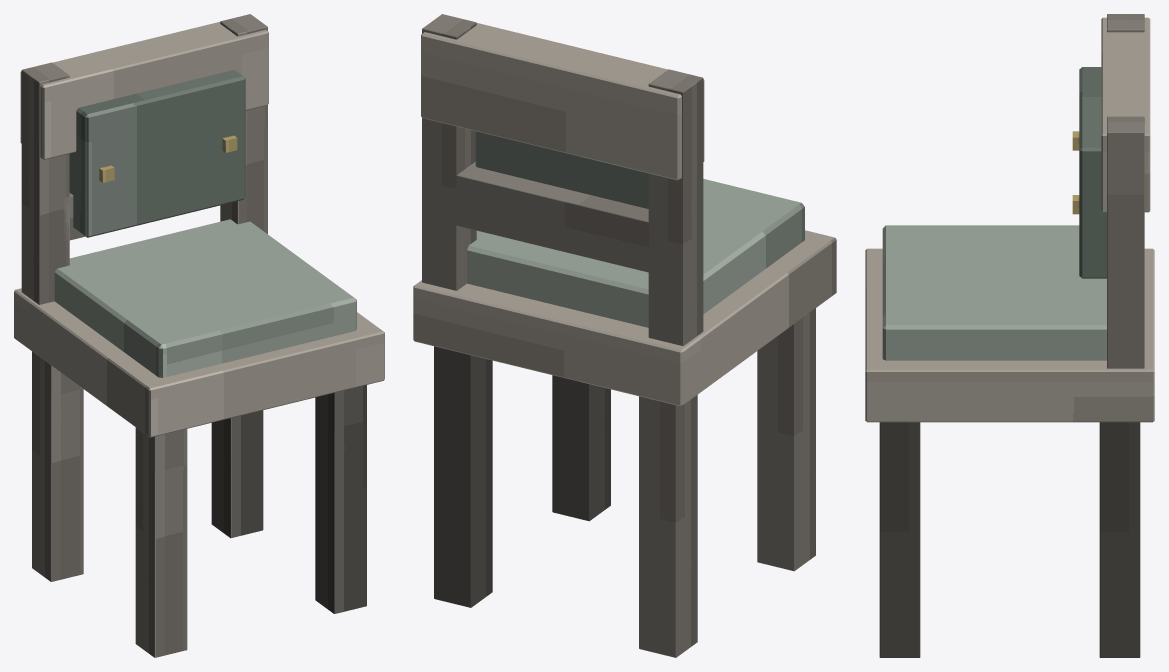
File: wooden_chair_cushion_ash.glb
The picture shows the model from 3 angles, left to right: view 1: azimuth 30°, elevation 25°; view 2: azimuth 150°, elevation 25°; view 3: azimuth 270°, elevation 25°; orthographic projection. The views are drawn at different scales.
Parts seen in each view (by area): view 1: SeatCushion, BackCushion, ChairSeat, BackTop, ChairLeg_1, ChairLeg_2, ChairLeg_3, BackPost_L, ChairLeg_4, BackPost_R; view 2: ChairSeat, BackTop, SeatCushion, ChairLeg_3, ChairLeg_4, ChairLeg_1, BackRail, BackPost_L, BackPost_R, ChairLeg_2, BackCushion; view 3: SeatCushion, ChairSeat, ChairLeg_2, ChairLeg_4, BackPost_R, BackTop, BackCushion, BackPost_L.
Part boxes in pixels (x1,y1,x2,y2): SeatCushion: (54,219,356,377); BackCushion: (69,69,245,237); ChairSeat: (14,288,384,437); BackTop: (20,22,268,159); ChairLeg_1: (135,427,187,657); ChairLeg_2: (315,385,366,613); ChairLeg_3: (32,351,83,581); BackPost_L: (21,62,69,304); ChairLeg_4: (211,410,263,538); BackPost_R: (220,14,267,233); ChairSeat: (413,230,836,406); BackTop: (421,23,704,180); SeatCushion: (467,179,804,327); ChairLeg_3: (639,395,697,657); ChairLeg_4: (434,346,492,607); ChairLeg_1: (757,308,815,571); BackRail: (450,162,654,272); BackPost_L: (648,69,703,345); BackPost_R: (422,14,476,290); ChairLeg_2: (552,375,610,521); BackCushion: (475,131,648,208); SeatCushion: (882,225,1106,360); ChairSeat: (865,248,1154,422); ChairLeg_2: (879,422,920,657); ChairLeg_4: (1099,422,1140,657); BackPost_R: (1107,116,1144,368); BackTop: (1101,17,1150,212); BackCushion: (1079,67,1106,278); BackPost_L: (1107,14,1144,32).
Bounding box in the file's own units: 0.5 × 1.01 × 0.5.
Materials: 1 (1 with a texture image).
